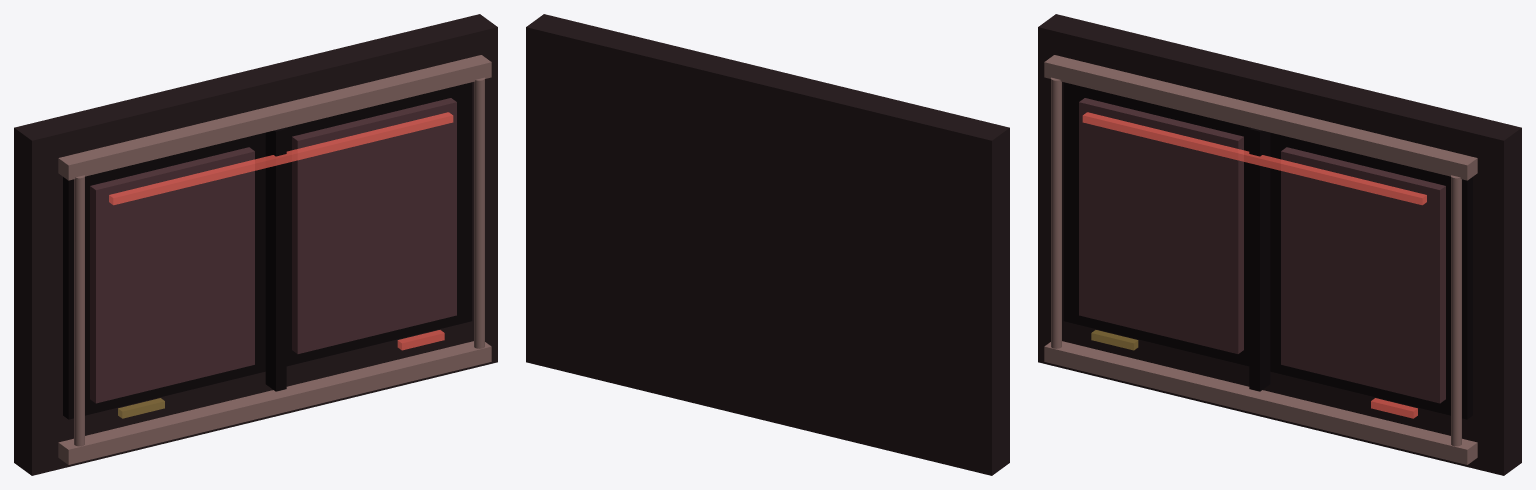
File: hp_room_wall_panel_core.glb
3 views of the same model, side by side, from view 1: azimuth 30°, elevation 25°; view 2: azimuth 150°, elevation 25°; view 3: azimuth 330°, elevation 25° (orthographic).
Parts seen in each view (by area): view 1: core_wall_structural_back, core_wall_main_panel_left, core_wall_main_panel_right, core_wall_inset_shadow, core_wall_top_rail, core_wall_bottom_rail, core_wall_center_seam, core_wall_status_strip, core_wall_side_pipe_-1.03, core_wall_side_pipe_1.03, core_wall_data_chip_b, core_wall_data_chip_a; view 2: core_wall_structural_back; view 3: core_wall_structural_back, core_wall_main_panel_right, core_wall_main_panel_left, core_wall_inset_shadow, core_wall_top_rail, core_wall_bottom_rail, core_wall_center_seam, core_wall_status_strip, core_wall_side_pipe_1.03, core_wall_side_pipe_-1.03, core_wall_data_chip_b, core_wall_data_chip_a.
Boxes of the visible parts, <box> form: core_wall_structural_back: <box>14,14,497,475</box>; core_wall_main_panel_left: <box>90,147,254,403</box>; core_wall_main_panel_right: <box>292,98,456,353</box>; core_wall_inset_shadow: <box>63,82,472,419</box>; core_wall_top_rail: <box>58,55,491,180</box>; core_wall_bottom_rail: <box>58,341,491,464</box>; core_wall_center_seam: <box>265,128,286,391</box>; core_wall_status_strip: <box>109,112,453,205</box>; core_wall_side_pipe_-1.03: <box>74,175,84,446</box>; core_wall_side_pipe_1.03: <box>474,77,484,348</box>; core_wall_data_chip_b: <box>397,330,444,350</box>; core_wall_data_chip_a: <box>118,398,164,418</box>; core_wall_structural_back: <box>526,14,1009,475</box>; core_wall_structural_back: <box>1038,14,1521,475</box>; core_wall_main_panel_right: <box>1281,147,1445,403</box>; core_wall_main_panel_left: <box>1079,98,1243,353</box>; core_wall_inset_shadow: <box>1063,82,1472,419</box>; core_wall_top_rail: <box>1044,55,1477,180</box>; core_wall_bottom_rail: <box>1044,341,1477,464</box>; core_wall_center_seam: <box>1249,128,1270,391</box>; core_wall_status_strip: <box>1082,112,1426,205</box>; core_wall_side_pipe_1.03: <box>1451,175,1461,446</box>; core_wall_side_pipe_-1.03: <box>1051,77,1061,348</box>; core_wall_data_chip_b: <box>1371,398,1417,418</box>; core_wall_data_chip_a: <box>1091,330,1138,350</box>.
Size of the model in its own units: 2.4 by 1.65 by 0.326.
